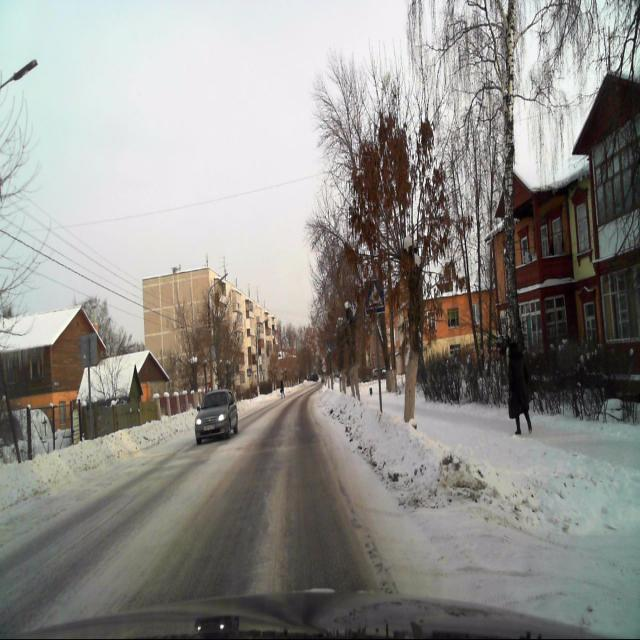object: (374, 315, 383, 415)
road sign: (364, 279, 384, 314)
